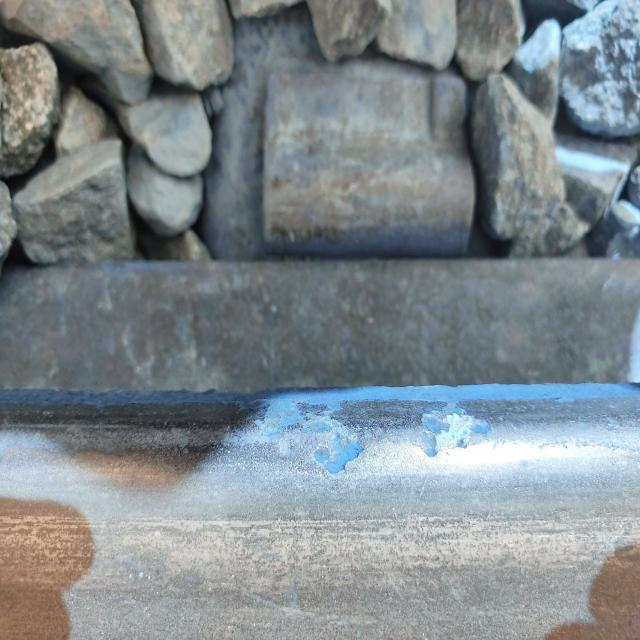Missing Fastener: (263, 59, 475, 255)
